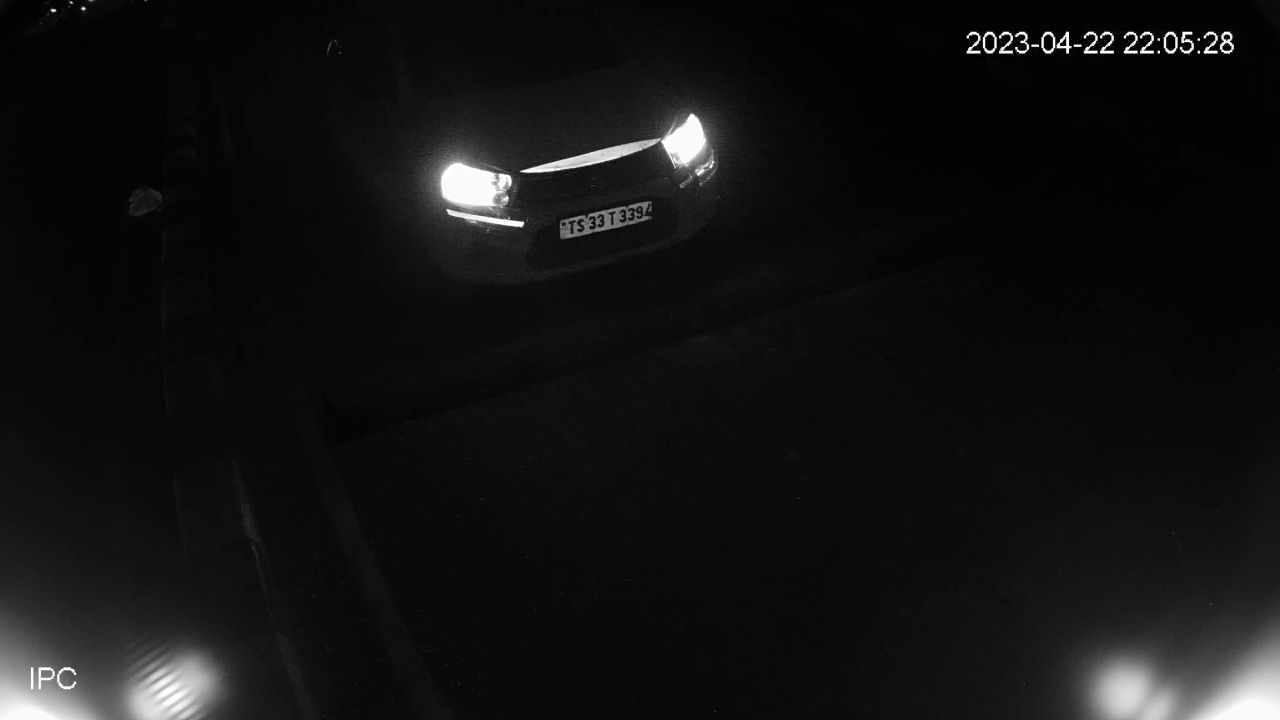license_plate: (556, 193, 659, 248)
